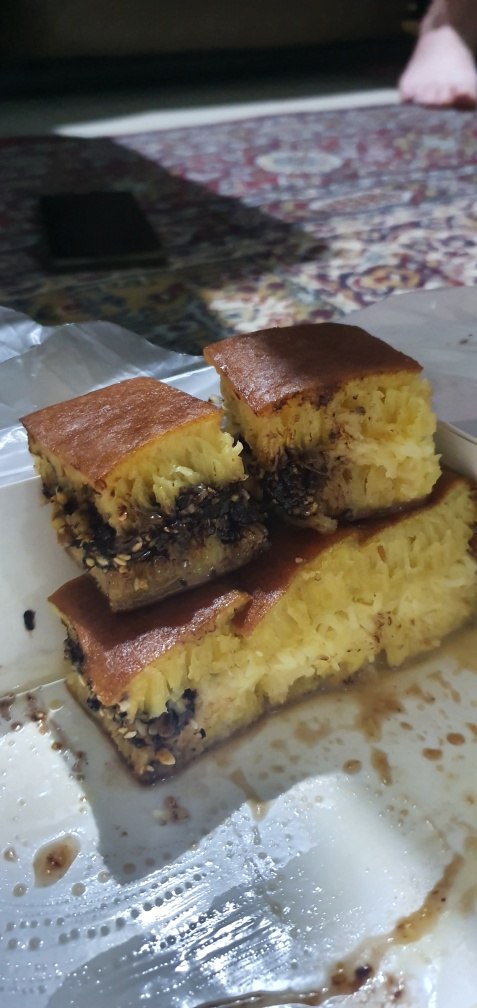martabak manis: (12, 377, 272, 587), (203, 310, 454, 517), (38, 571, 247, 780), (221, 534, 377, 716), (343, 502, 477, 665)
